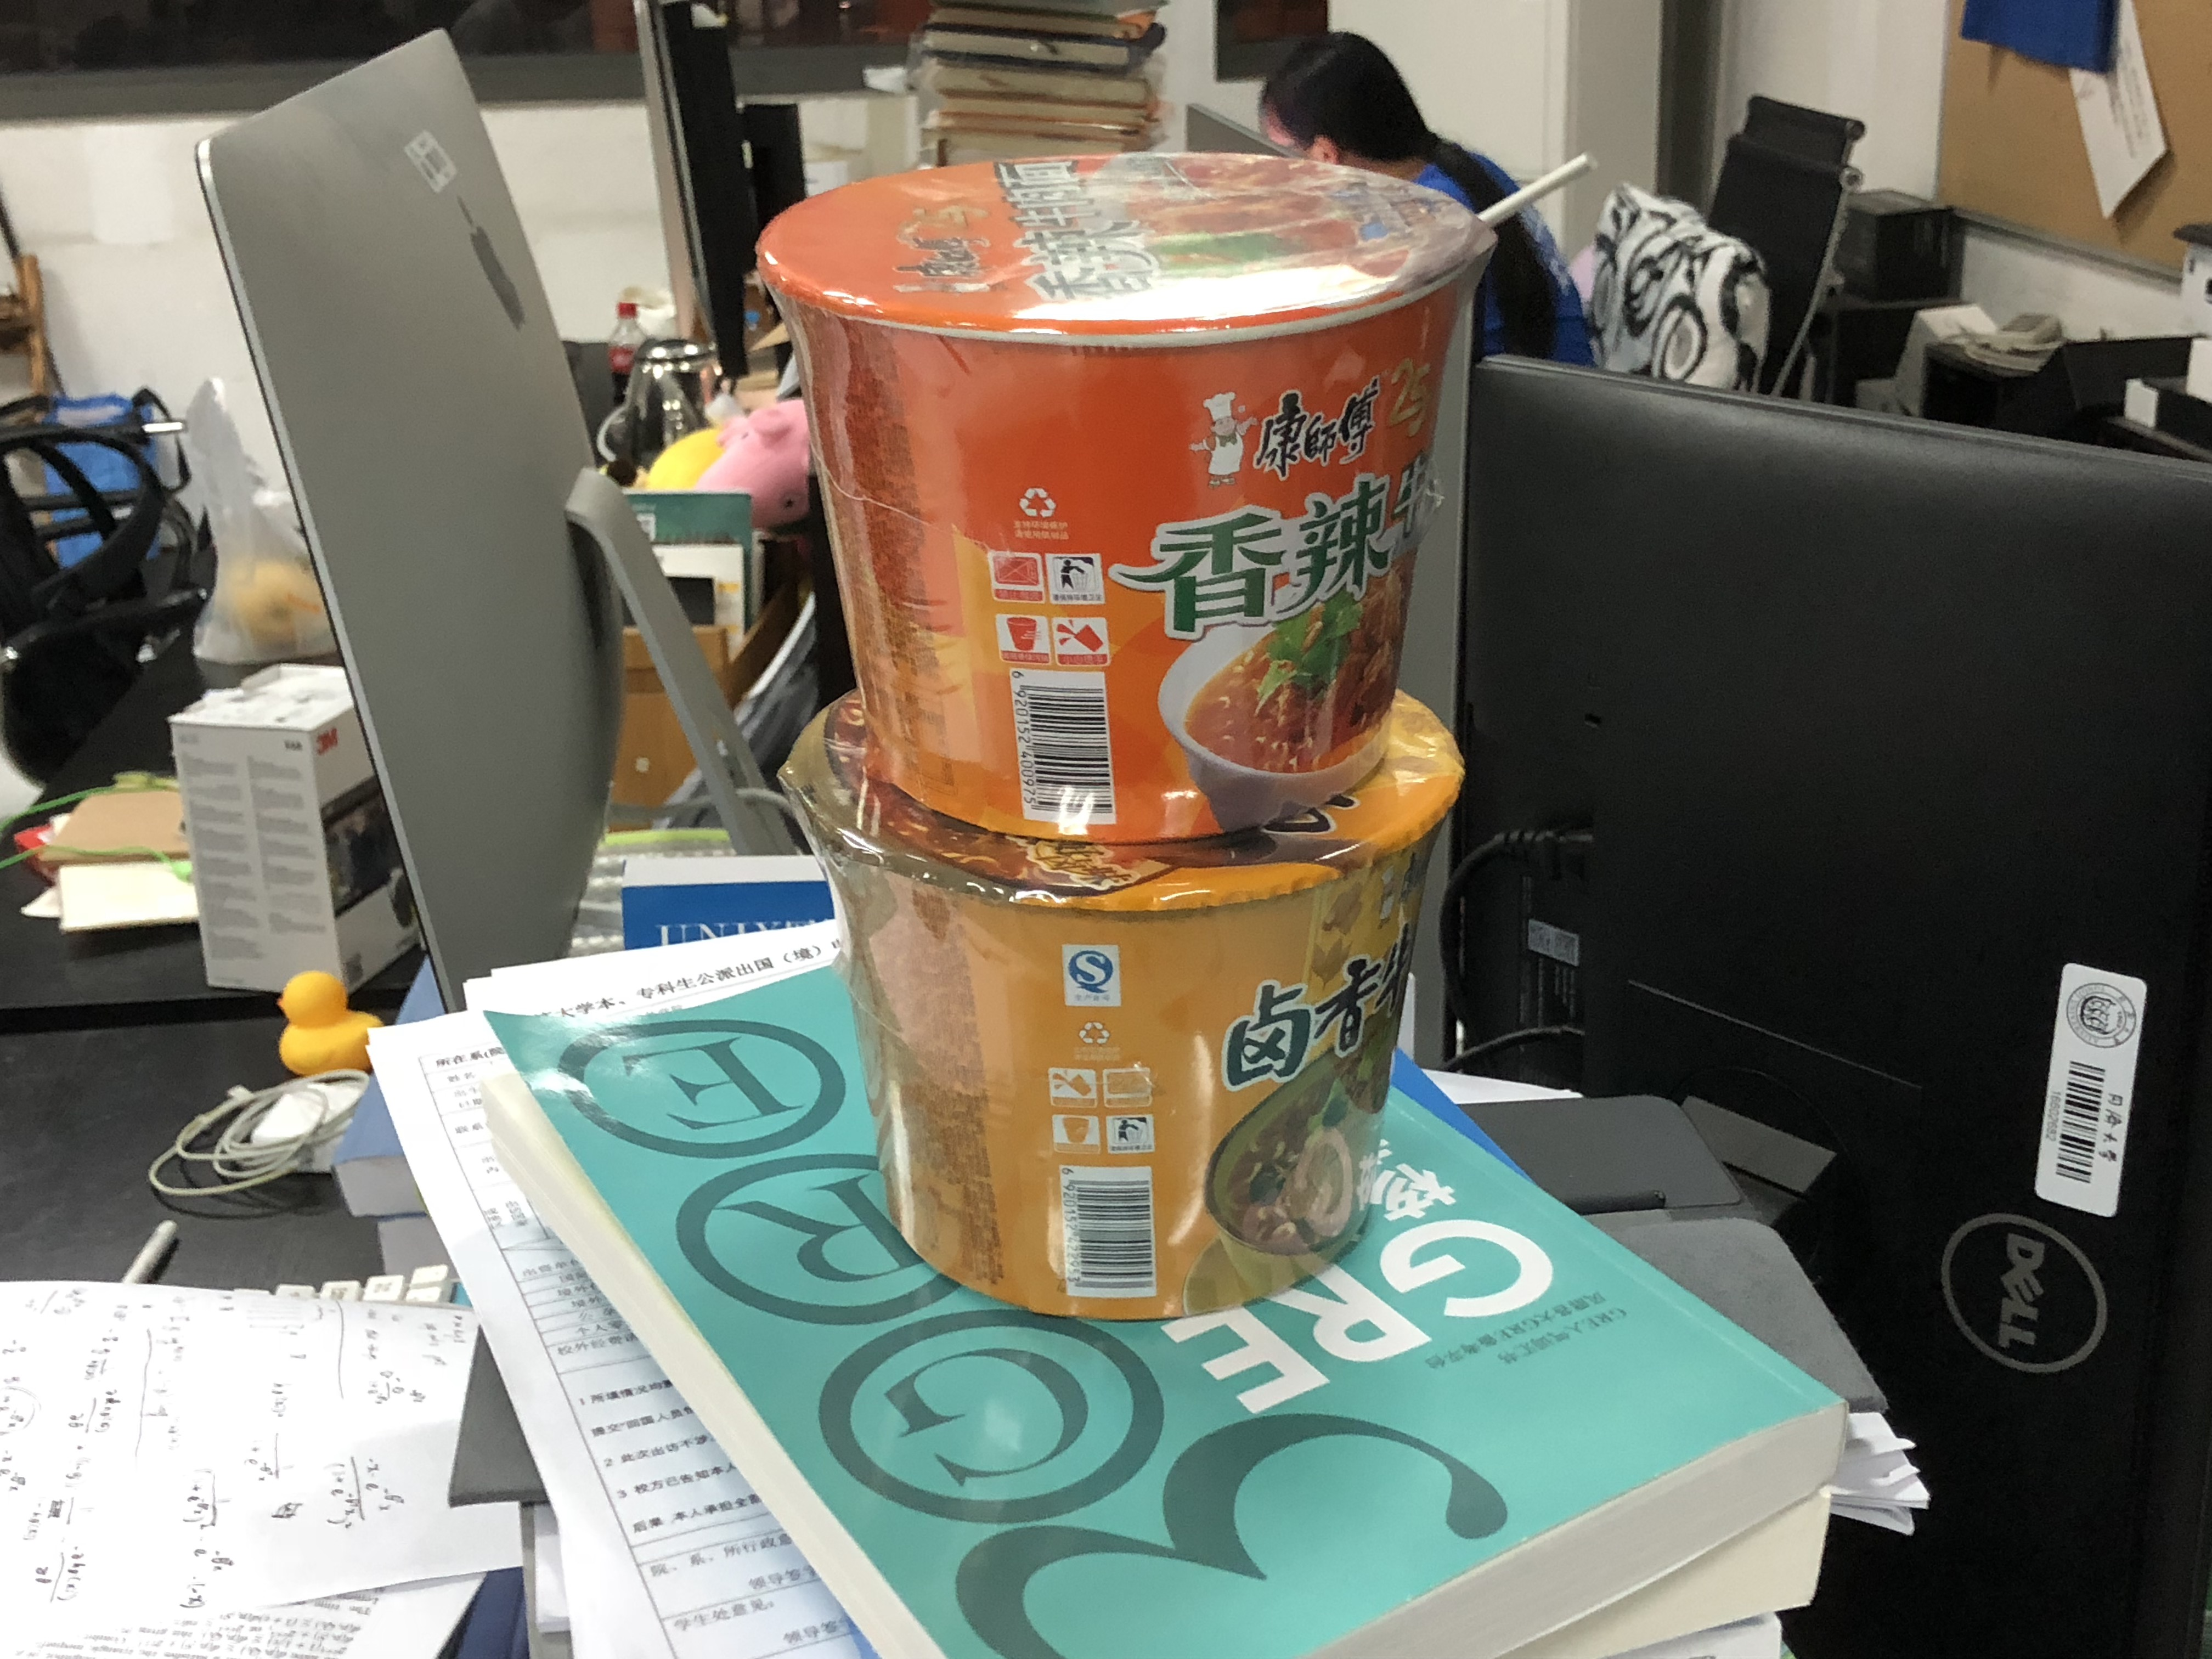luxiang: (779, 692, 1470, 1326)
xiangla: (754, 152, 1500, 847)
